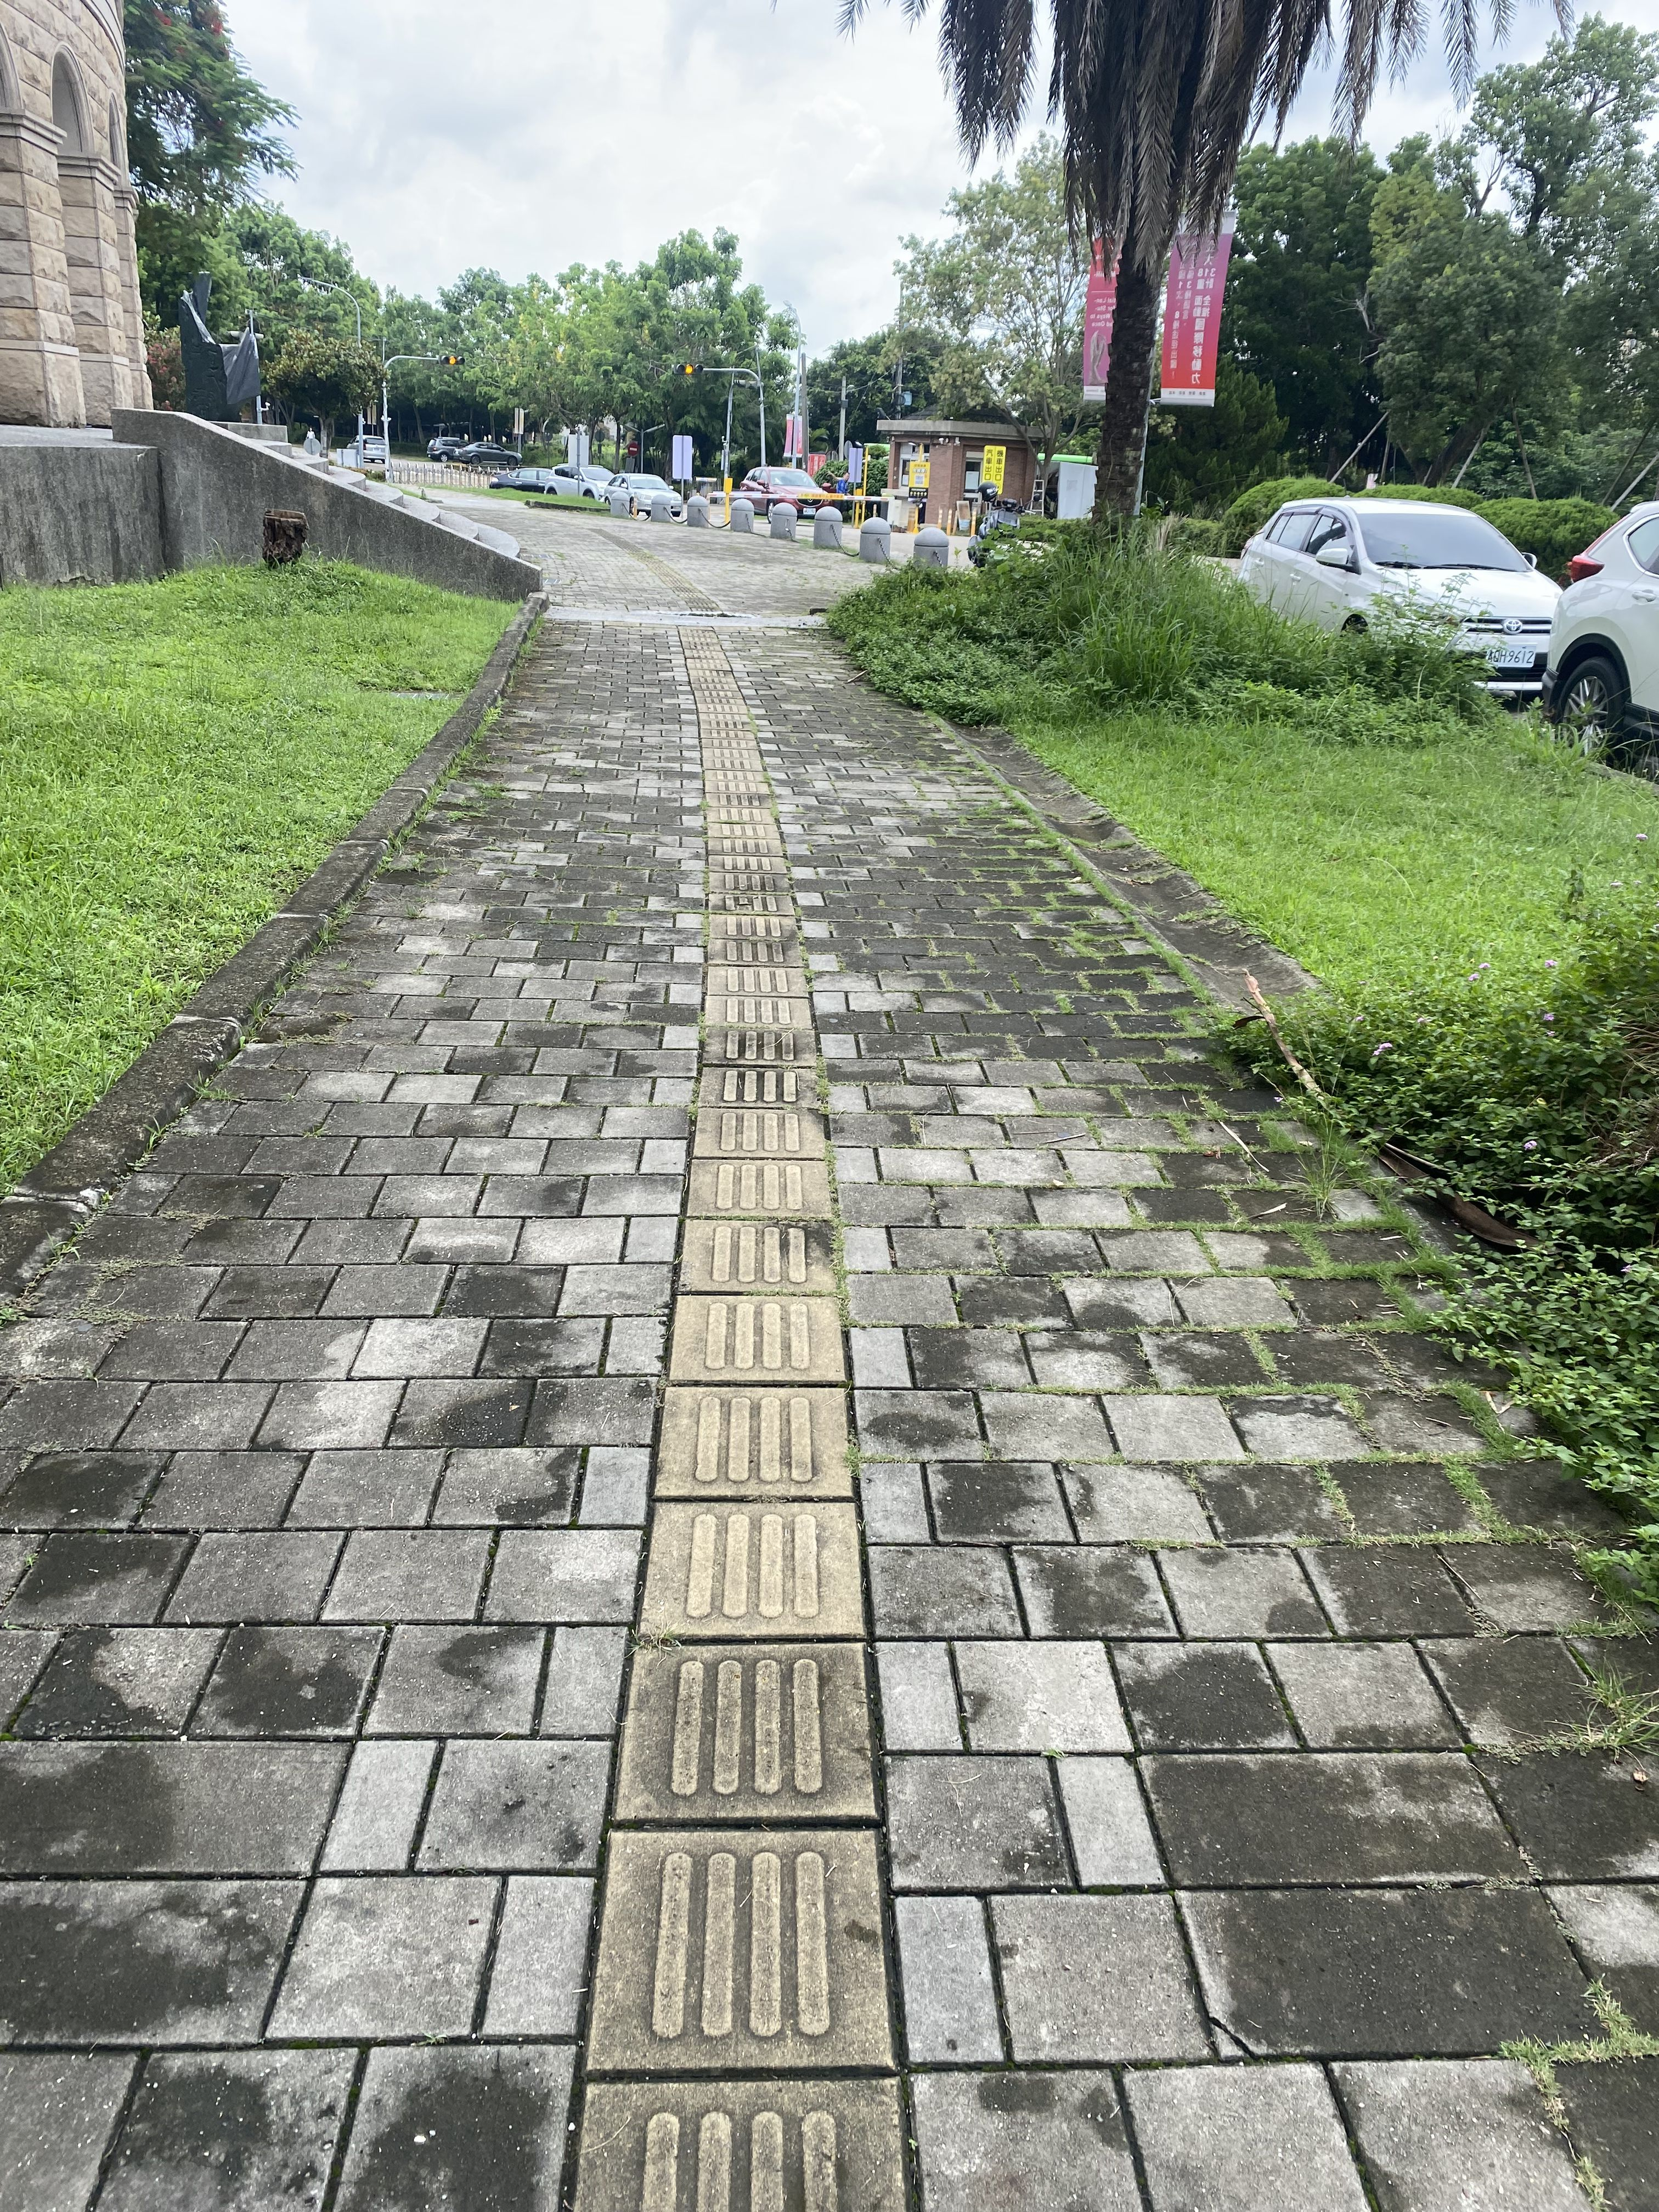0: (7, 840, 1659, 2212)
sidewalk: (404, 474, 945, 937)
